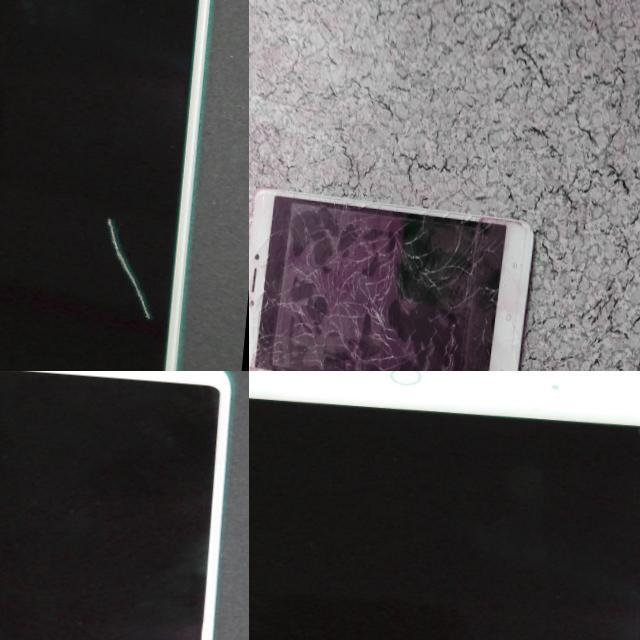scratch: (100, 205, 175, 313)
screen crack: (249, 183, 507, 371)
